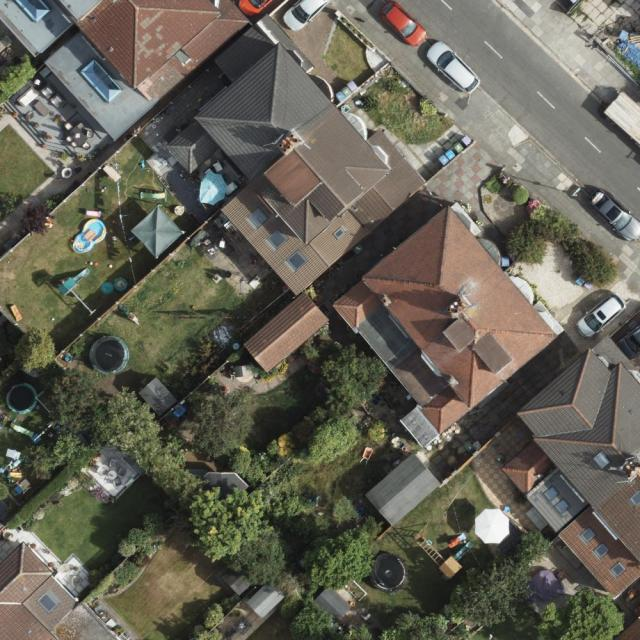roof: (166, 14, 428, 295), (333, 206, 560, 450), (501, 335, 639, 598), (1, 0, 251, 142), (0, 543, 120, 640), (243, 294, 331, 374), (364, 453, 442, 527)
skylight: (80, 60, 122, 105), (15, 0, 52, 24), (590, 449, 612, 473), (286, 250, 310, 272), (37, 590, 59, 613), (246, 208, 269, 230), (269, 227, 288, 253), (609, 561, 626, 578), (581, 527, 598, 543), (593, 543, 609, 560), (543, 486, 559, 502), (555, 499, 570, 515), (331, 226, 347, 240), (628, 488, 638, 509)
